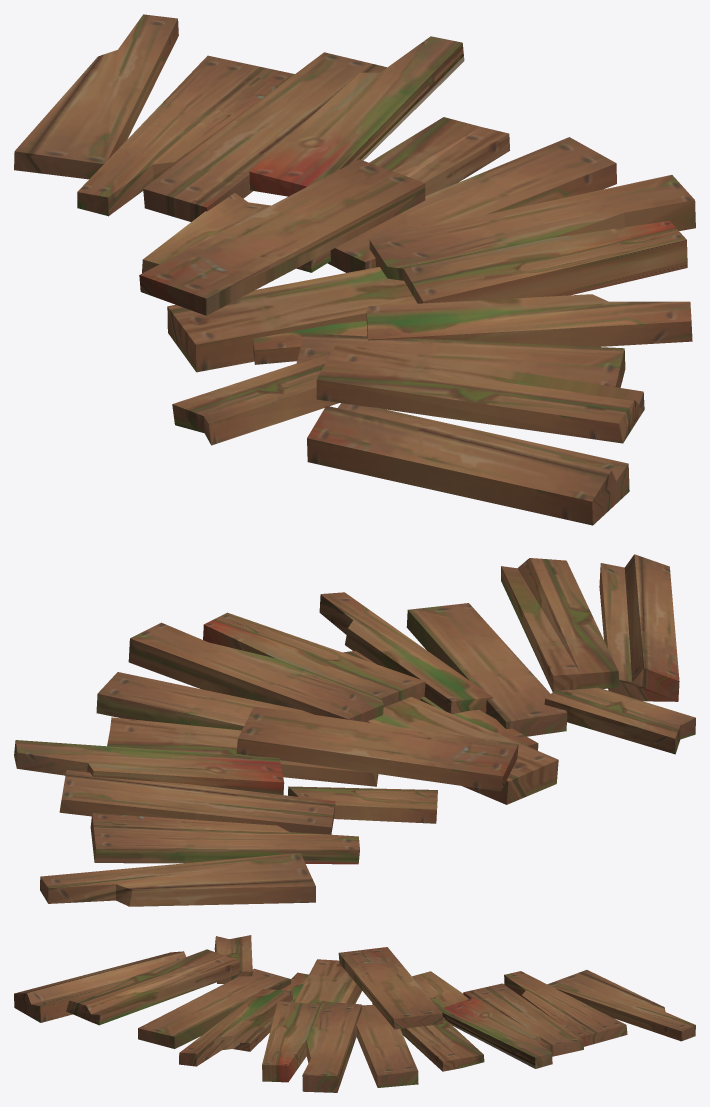
Rendered from map_7005_muban01.FBX.
3 views of the same model, one above another, from view 1: azimuth 30°, elevation 25°; view 2: azimuth 150°, elevation 25°; view 3: azimuth 270°, elevation 25° (orthographic). The views are drawn at different scales.
Parts seen in each view (by area): view 1: map_7005_muban01; view 2: map_7005_muban01; view 3: map_7005_muban01.
Part boxes in pixels (x1=…): map_7005_muban01: x1=14, y1=14, x2=695, y2=525; map_7005_muban01: x1=14, y1=554, x2=695, y2=906; map_7005_muban01: x1=14, y1=935, x2=695, y2=1092.
Bounding box in the file's own units: 2.05 × 0.2712 × 3.66.
Materials: 1 (1 with a texture image).
